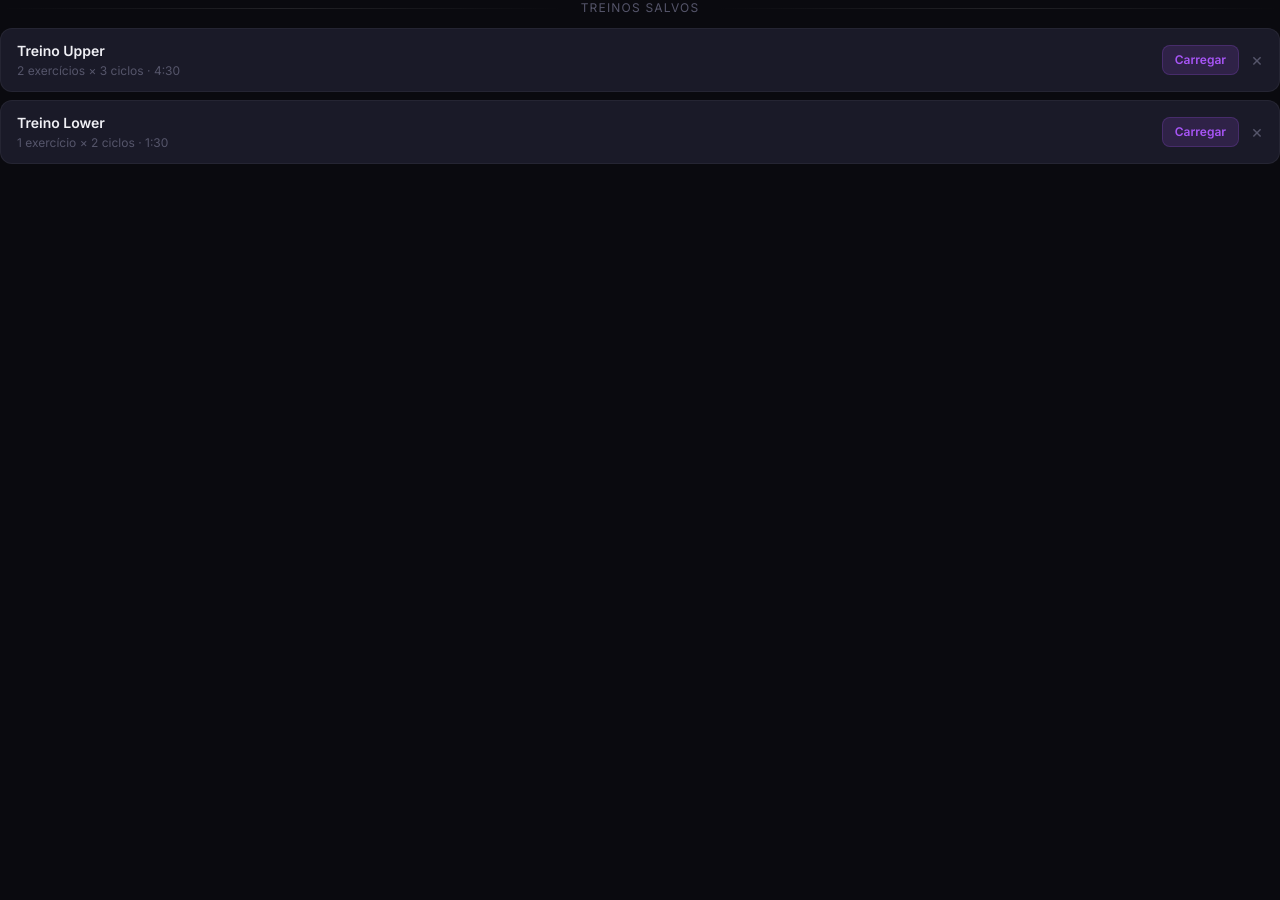
Test: SavedWorkouts › abre o modal de confirmação ao clicar no botão de excluir
Note: Click the delete button for the first workout
Click the button named "Excluir Treino Upper" at point(1257, 60), box [1251,51,1263,69]
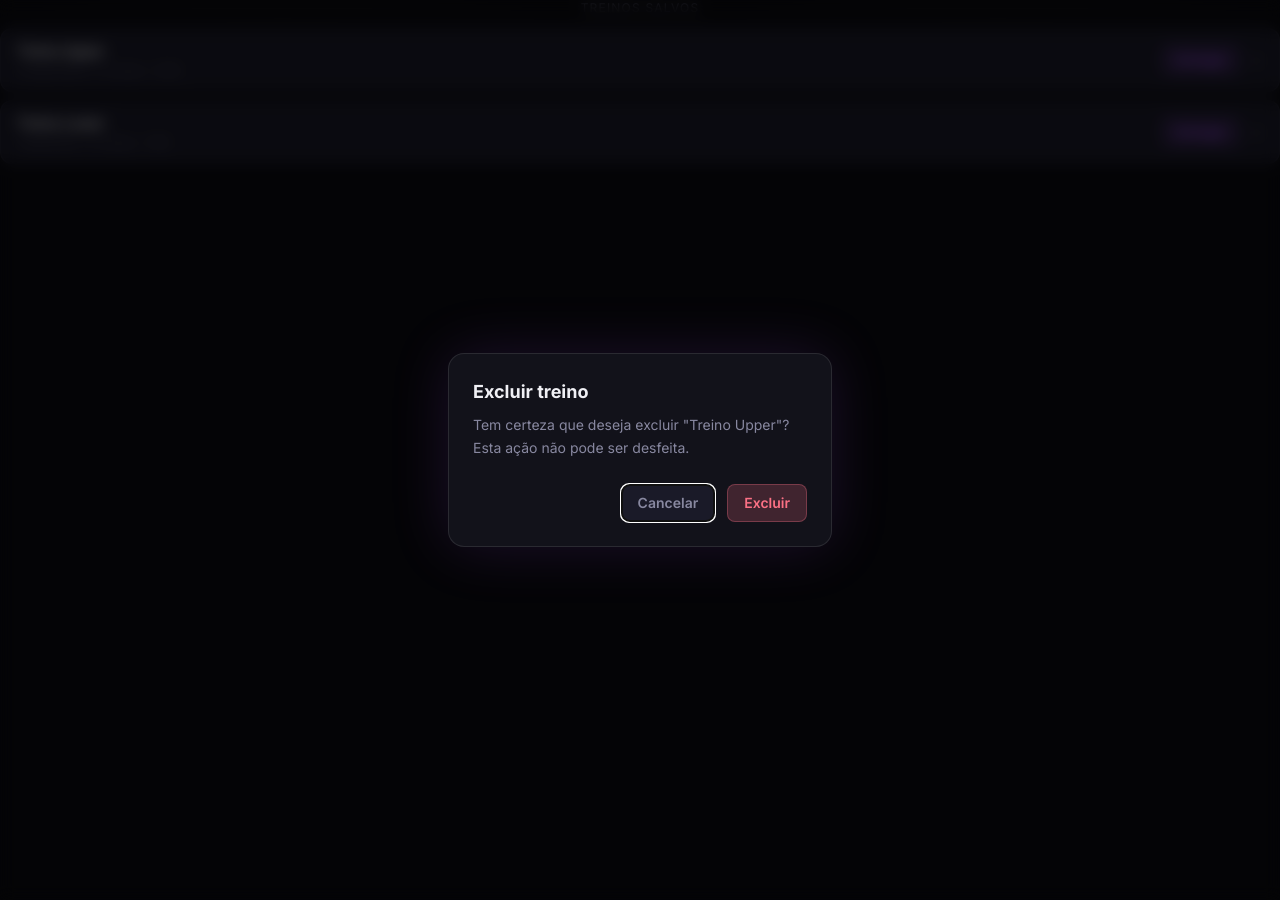
Now the dialog with test id "confirm-modal" is shown
Now the heading "Excluir treino" is shown, box [473,381,588,402]
Now the text "Tem certeza que deseja excluir \"Treino Upper\"?" is shown, box [473,416,789,456]
